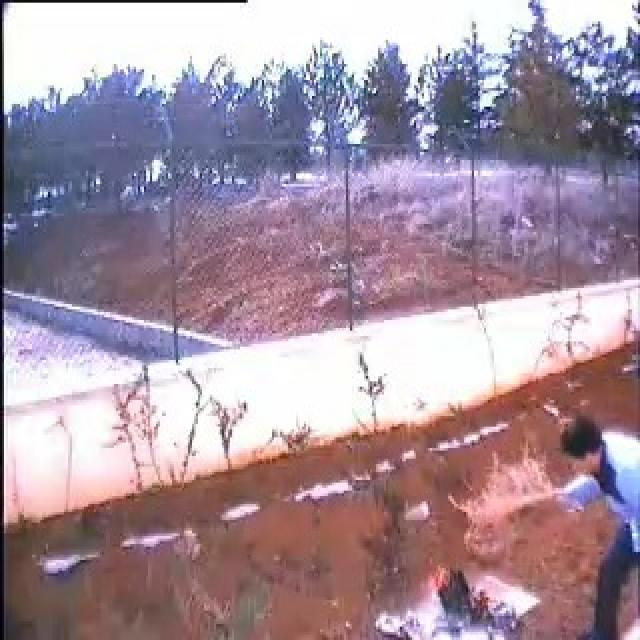fire: (428, 560, 450, 595)
smoke: (422, 552, 448, 560)
